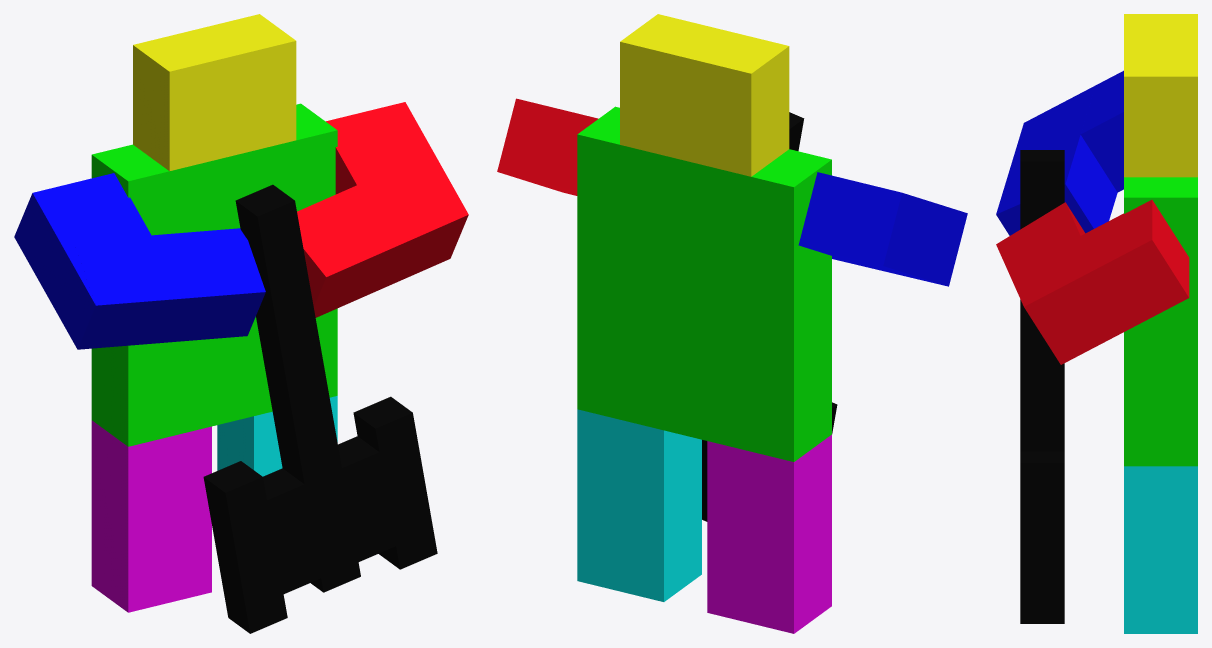
File: ToyGiant.fbx
3 views of the same model, side by side, from view 1: azimuth 30°, elevation 25°; view 2: azimuth 150°, elevation 25°; view 3: azimuth 270°, elevation 25° (orthographic). The views are drawn at different scales.
Parts seen in each view (by area): view 1: Cube.001, Cube.006, Cube.003, Cube.011, Cube.008, Cube.007, Cube.012, Cube.005, Cube.009, Cube.004, Cube.010, Cube.002; view 2: Cube.001, Cube.006, Cube.003, Cube.002, Cube.005, Cube.004, Cube.008; view 3: Cube.001, Cube.004, Cube.002, Cube.006, Cube.008, Cube.010, Cube.011, Cube.012, Cube.005.
Part boxes in pixels (x1,y1,x2,y2): Cube.001: (91, 103, 337, 446); Cube.006: (133, 14, 296, 171); Cube.003: (91, 420, 211, 612); Cube.011: (74, 228, 265, 349); Cube.008: (235, 184, 360, 592); Cube.007: (248, 436, 414, 602); Cube.012: (297, 157, 468, 317); Cube.005: (14, 173, 150, 349); Cube.009: (203, 461, 287, 633); Cube.004: (326, 102, 467, 253); Cube.010: (353, 396, 437, 569); Cube.002: (217, 396, 337, 476); Cube.001: (577, 106, 831, 461); Cube.006: (620, 14, 789, 176); Cube.003: (707, 434, 831, 633); Cube.002: (577, 409, 701, 601); Cube.005: (798, 172, 967, 286); Cube.004: (497, 98, 598, 195); Cube.008: (702, 112, 804, 521); Cube.001: (1124, 177, 1197, 466); Cube.004: (1024, 200, 1189, 364); Cube.002: (1124, 466, 1197, 633); Cube.006: (1124, 14, 1197, 177); Cube.008: (1020, 150, 1064, 451); Cube.010: (1020, 451, 1064, 623); Cube.011: (996, 93, 1117, 235); Cube.012: (996, 202, 1093, 306); Cube.005: (1024, 70, 1123, 192).
Bounding box in the file's own units: 118 × 160 × 54.52.
